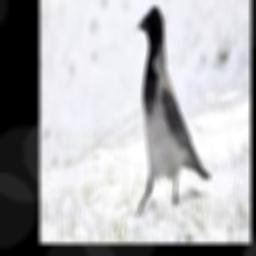Crow: (138, 4, 211, 216)
